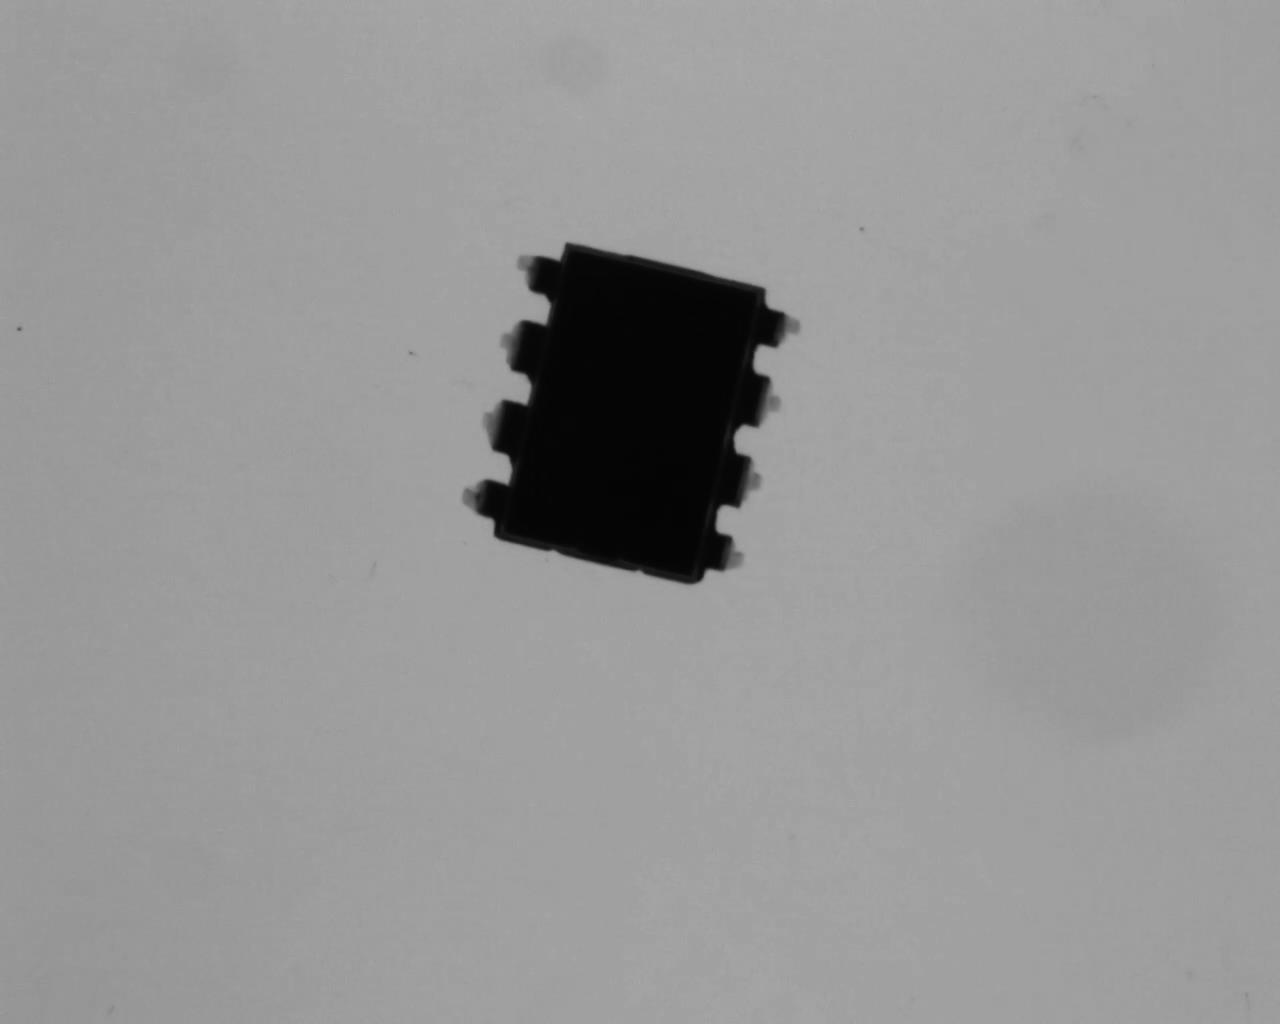Leg: (490, 315, 559, 380), (741, 371, 800, 435), (481, 394, 532, 459), (509, 249, 560, 299), (458, 471, 510, 520), (761, 301, 806, 357), (726, 452, 769, 511), (707, 532, 751, 576)
